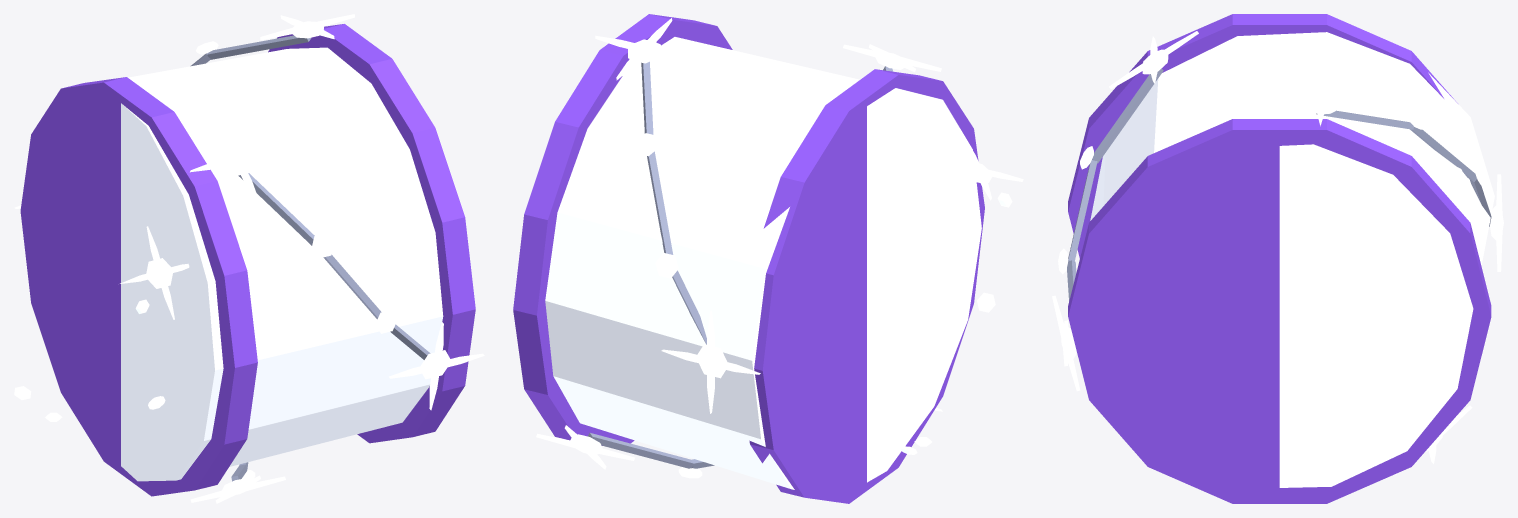
File: star_giant_bracer_l.glb
3 renders of one model, left to right at view 1: azimuth 30°, elevation 25°; view 2: azimuth 150°, elevation 25°; view 3: azimuth 270°, elevation 25°, orthographic. The views are drawn at different scales.
Visible parts, largest first — view 1: star_giant_bracer_l; view 2: star_giant_bracer_l; view 3: star_giant_bracer_l.
Part boxes in pixels (x1,y1,x2,y2): star_giant_bracer_l: [14, 14, 484, 503]; star_giant_bracer_l: [513, 14, 1023, 503]; star_giant_bracer_l: [1052, 14, 1503, 503].
Size of the model in its own units: 0.2849 by 0.3416 by 0.3459.
